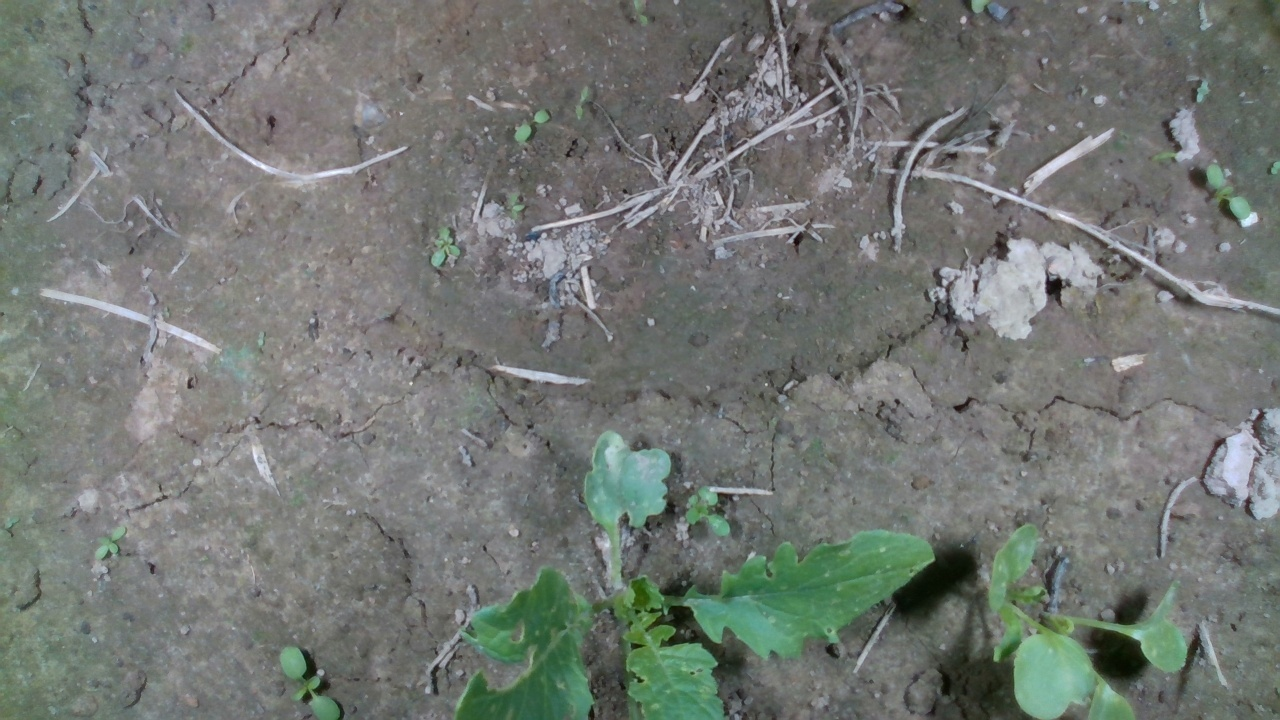weed: (1205, 162, 1251, 221), (684, 484, 731, 538), (513, 107, 552, 143), (91, 524, 128, 561), (574, 82, 589, 119)
